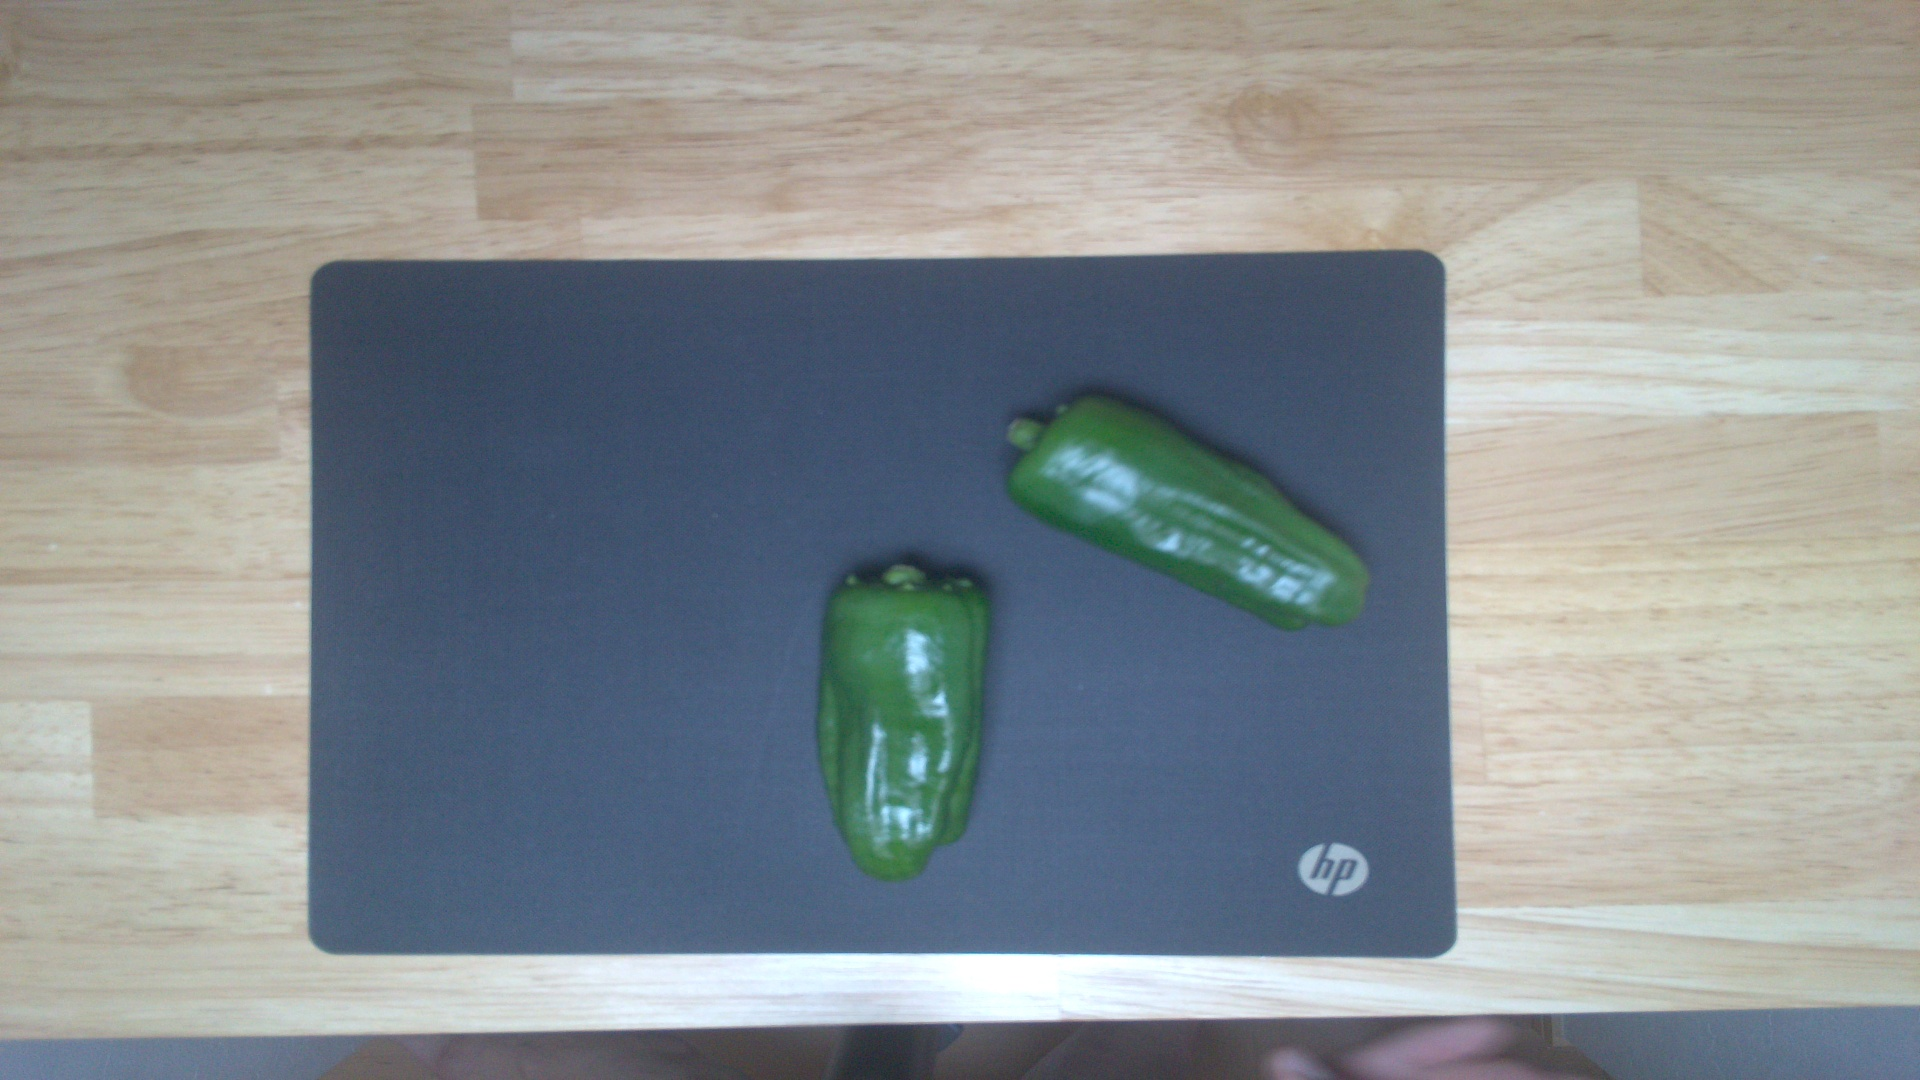Piman: (1000, 382, 1379, 641), (818, 556, 996, 882)
